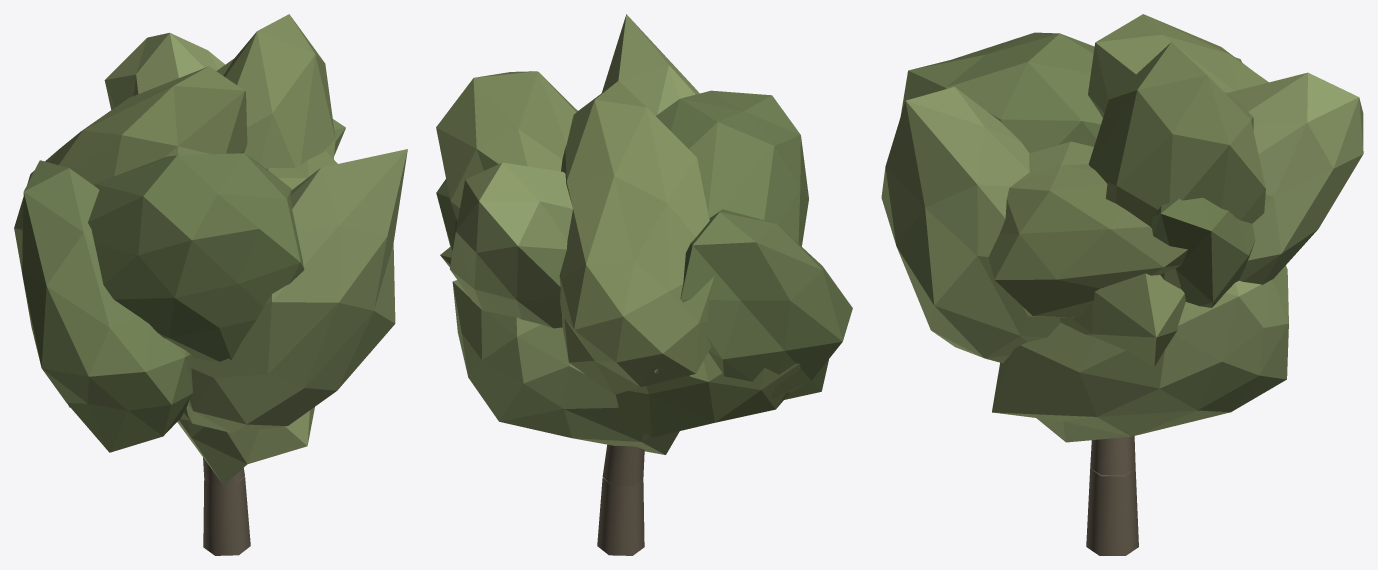
Rendered from derevo_verba.glb.
3 renders of one model, left to right at view 1: azimuth 30°, elevation 25°; view 2: azimuth 150°, elevation 25°; view 3: azimuth 270°, elevation 25°, orthographic. The views are drawn at different scales.
Visible parts, largest first — view 1: leaves (×8), trunk; view 2: leaves (×9), trunk (×2); view 3: leaves (×9), trunk (×2).
Boxes of the visible parts, left/top/right/bottom form: leaves (×8): left=14, top=14, right=407, bottom=485; trunk: left=203, top=477, right=250, bottom=555; leaves (×9): left=436, top=14, right=852, bottom=454; trunk (×2): left=597, top=444, right=644, bottom=555; leaves (×9): left=881, top=14, right=1363, bottom=442; trunk (×2): left=1086, top=436, right=1138, bottom=555.
Bounding box in the file's own units: 8.04 × 10.15 × 8.26.
